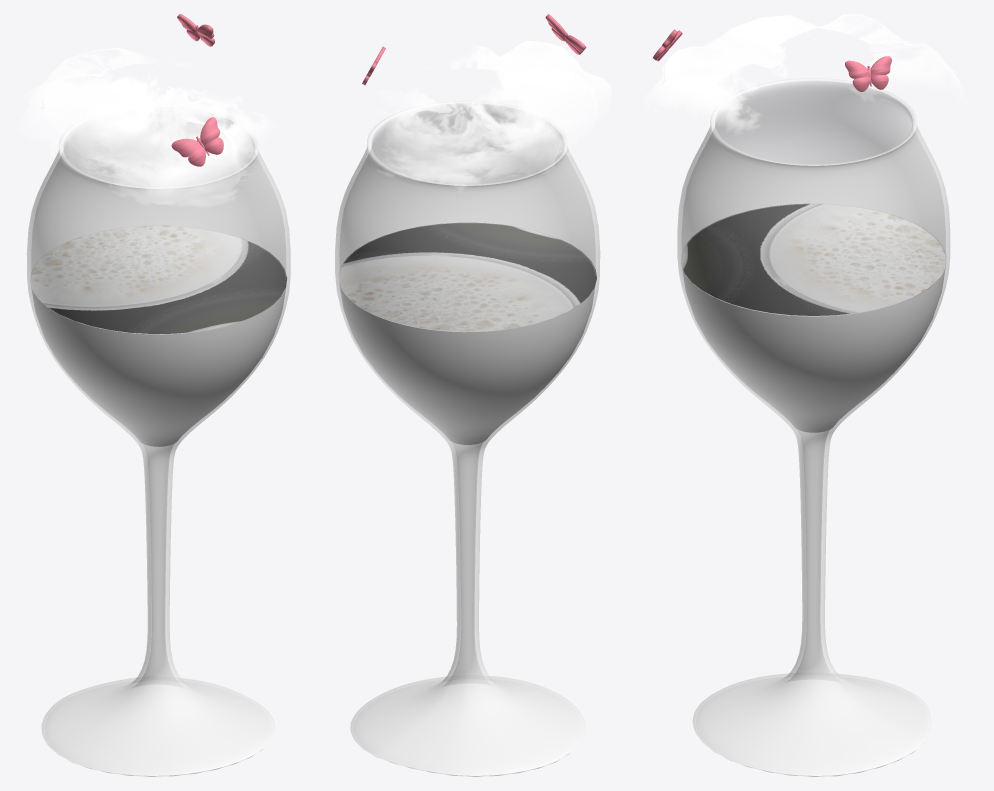
File: Ccloud.glb
3 views of the same model, side by side, from view 1: azimuth 30°, elevation 25°; view 2: azimuth 150°, elevation 25°; view 3: azimuth 270°, elevation 25° (orthographic). The views are drawn at different scales.
Visible parts, largest first — view 1: glass - baked, n0b0_0, Disc, glass_1, ID17, ID17_1; view 2: glass - baked, Disc, n0b0_0, glass_1, ID17; view 3: glass - baked, Disc, glass_1, n0b0_0, ID17_1.
Part boxes in pixels (bbox=[...]): glass - baked: bbox=[26, 115, 290, 776]; n0b0_0: bbox=[19, 47, 275, 206]; Disc: bbox=[30, 225, 286, 333]; glass_1: bbox=[31, 287, 285, 446]; ID17: bbox=[171, 117, 223, 166]; ID17_1: bbox=[177, 14, 214, 46]; glass - baked: bbox=[335, 100, 600, 776]; Disc: bbox=[338, 223, 596, 331]; n0b0_0: bbox=[379, 40, 611, 189]; glass_1: bbox=[339, 283, 595, 444]; ID17: bbox=[545, 14, 586, 54]; glass - baked: bbox=[677, 78, 950, 776]; Disc: bbox=[681, 203, 946, 315]; glass_1: bbox=[682, 268, 945, 432]; n0b0_0: bbox=[643, 14, 966, 132]; ID17_1: bbox=[845, 56, 891, 91].
Bounding box in the file's own units: 0.1047 × 0.2966 × 0.1292.
5 materials, 2 textured.
